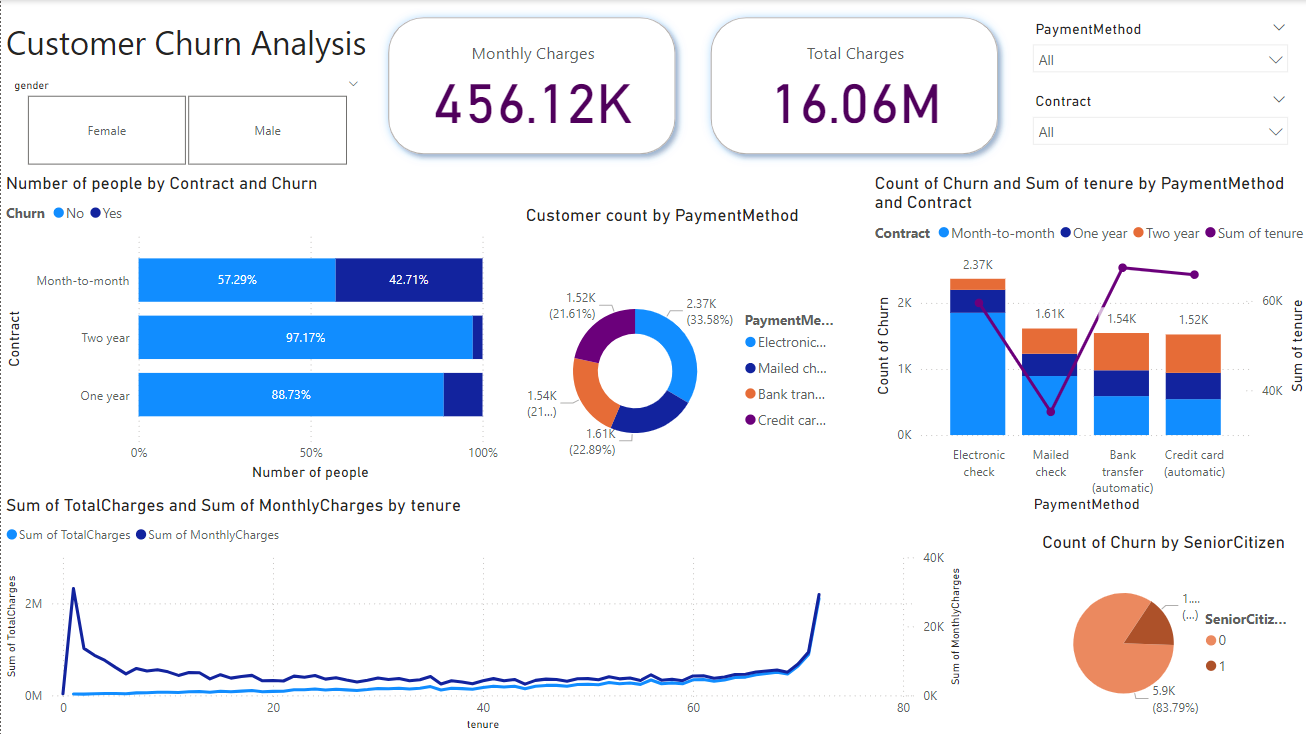

Layout of this report page (visuals, bound fields, positions):
{"tool":"powerbi","page":{"name":"Page 1","canvas":[1280,720],"ordinal":0},"visuals":[{"type":"textbox","box":[0,15.1,371.9,57.6],"z":0},{"type":"hundredPercentStackedBarChart","fields":{"Category":["Telco_Customer_Churn_Dataset.Contract"],"Series":["Telco_Customer_Churn_Dataset.Churn"],"Y":["CountNonNull(Telco_Customer_Churn_Dataset.customerID)"]},"box":[0,168.8,491.3,306],"z":1000},{"type":"lineChart","fields":{"Category":["Telco_Customer_Churn_Dataset.tenure"],"Y":["Sum(Telco_Customer_Churn_Dataset.TotalCharges)"],"Y2":["Sum(Telco_Customer_Churn_Dataset.MonthlyCharges)"]},"box":[0,484.4,945.5,236],"z":2000},{"type":"lineStackedColumnComboChart","fields":{"Category":["Telco_Customer_Churn_Dataset.PaymentMethod"],"Y":["CountNonNull(Telco_Customer_Churn_Dataset.Churn)"],"Y2":["Sum(Telco_Customer_Churn_Dataset.tenure)"],"Series":["Telco_Customer_Churn_Dataset.Contract"]},"box":[849.4,168.8,430.9,337.6],"z":3000},{"type":"pieChart","fields":{"Y":["CountNonNull(Telco_Customer_Churn_Dataset.Churn)"],"Category":["Telco_Customer_Churn_Dataset.SeniorCitizen"]},"box":[1014.1,520.1,255.2,200.3],"z":4000},{"type":"cardVisual","fields":{"Data":["Telco_Customer_Churn_Dataset.MonthlyCharge"]},"box":[362.3,0,315.6,168.8],"z":5000},{"type":"cardVisual","fields":{"Data":["Sum(Telco_Customer_Churn_Dataset.TotalCharges)"]},"box":[677.9,0,315.6,168.8],"z":6000},{"type":"slicer","fields":{"Values":["Telco_Customer_Churn_Dataset.gender"]},"box":[0,72.7,362.3,96.1],"z":7000},{"type":"slicer","fields":{"Values":["Telco_Customer_Churn_Dataset.PaymentMethod"]},"box":[999,15.1,270.3,72.7],"z":8000},{"type":"slicer","fields":{"Values":["Telco_Customer_Churn_Dataset.Contract"]},"box":[999,85.1,270.3,72.7],"z":9000},{"type":"donutChart","fields":{"Category":["Telco_Customer_Churn_Dataset.PaymentMethod"],"Y":["CountNonNull(Telco_Customer_Churn_Dataset.customerID)"]},"box":[509.1,200.3,315.6,306],"z":10000}]}

Visuals, with their boxes in screenshot pixels (x1, y1, x2, y2), scaled from the page's 1280x720 canvas onto the 1306x734 screenshot:
textbox: [0, 15, 379, 74]
hundredPercentStackedBarChart - Telco_Customer_Churn_Dataset.Contract x Telco_Customer_Churn_Dataset.Churn: [0, 172, 501, 484]
lineChart - Telco_Customer_Churn_Dataset.tenure x Sum(Telco_Customer_Churn_Dataset.TotalCharges): [0, 494, 965, 733]
lineStackedColumnComboChart - Telco_Customer_Churn_Dataset.PaymentMethod x CountNonNull(Telco_Customer_Churn_Dataset.Churn): [867, 172, 1305, 516]
pieChart - CountNonNull(Telco_Customer_Churn_Dataset.Churn) x Telco_Customer_Churn_Dataset.SeniorCitizen: [1035, 530, 1295, 733]
cardVisual - Telco_Customer_Churn_Dataset.MonthlyCharge: [370, 0, 692, 172]
cardVisual - Sum(Telco_Customer_Churn_Dataset.TotalCharges): [692, 0, 1014, 172]
slicer - Telco_Customer_Churn_Dataset.gender: [0, 74, 370, 172]
slicer - Telco_Customer_Churn_Dataset.PaymentMethod: [1019, 15, 1295, 90]
slicer - Telco_Customer_Churn_Dataset.Contract: [1019, 87, 1295, 161]
donutChart - Telco_Customer_Churn_Dataset.PaymentMethod x CountNonNull(Telco_Customer_Churn_Dataset.customerID): [519, 204, 841, 516]
